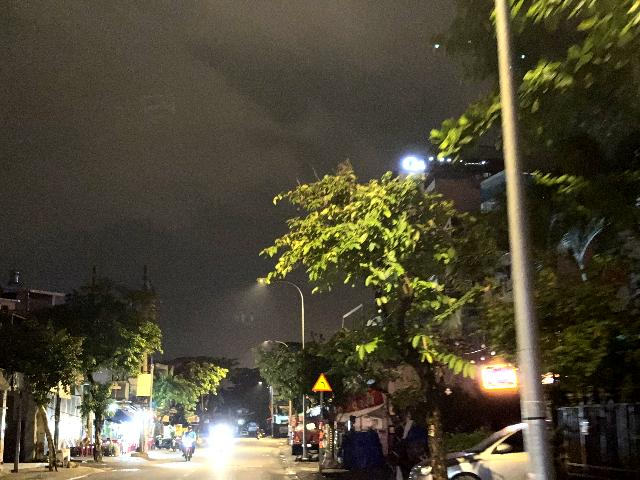cho-ngoat-nguy-hiem-ben-trai: (311, 373, 332, 392)
